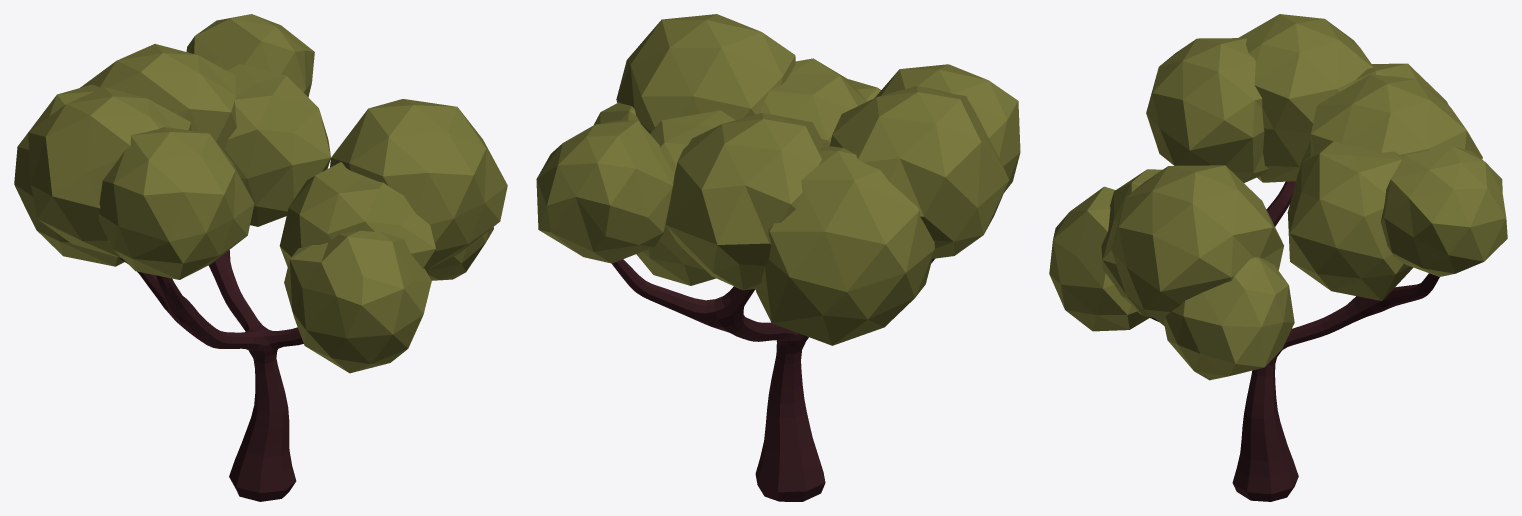
The model's file is Boom1poggers.fbx.
3 renders of one model, left to right at view 1: azimuth 30°, elevation 25°; view 2: azimuth 150°, elevation 25°; view 3: azimuth 270°, elevation 25°, orthographic. The views are drawn at different scales.
Visible parts, largest first — view 1: Icosphere.002, Plane; view 2: Icosphere.002, Plane; view 3: Icosphere.002, Plane.
Boxes of the visible parts, bbox=[...] form: Icosphere.002: bbox=[14, 14, 507, 373]; Plane: bbox=[118, 250, 303, 501]; Icosphere.002: bbox=[536, 14, 1020, 345]; Plane: bbox=[612, 258, 934, 501]; Icosphere.002: bbox=[1049, 14, 1507, 380]; Plane: bbox=[1150, 181, 1439, 501].
Bounding box in the file's own units: 854 × 816 × 831.
